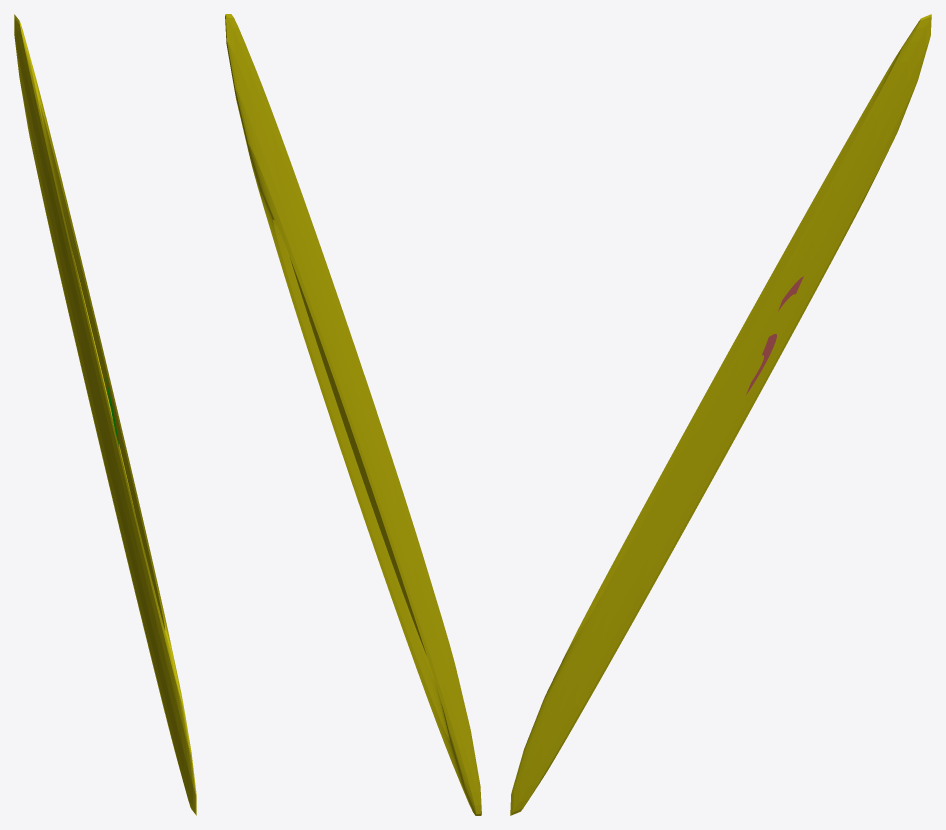
Rendered from coinanimation1.fbx.
3 renders of one model, left to right at view 1: azimuth 30°, elevation 25°; view 2: azimuth 150°, elevation 25°; view 3: azimuth 270°, elevation 25°, orthographic. The views are drawn at different scales.
Visible parts, largest first — view 1: Torus; view 2: Torus, Cylinder; view 3: Torus.
Boxes of the visible parts, <box> form: Torus: <box>14,14,196,815</box>; Torus: <box>225,14,481,815</box>; Cylinder: <box>290,258,426,654</box>; Torus: <box>510,14,931,815</box>.
Bounding box in the file's own units: 47.26 × 2251 × 1076.
